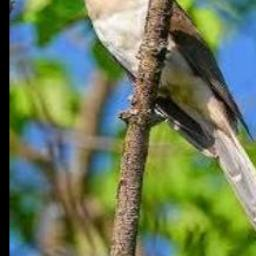Cuckoo: (52, 0, 256, 250)
